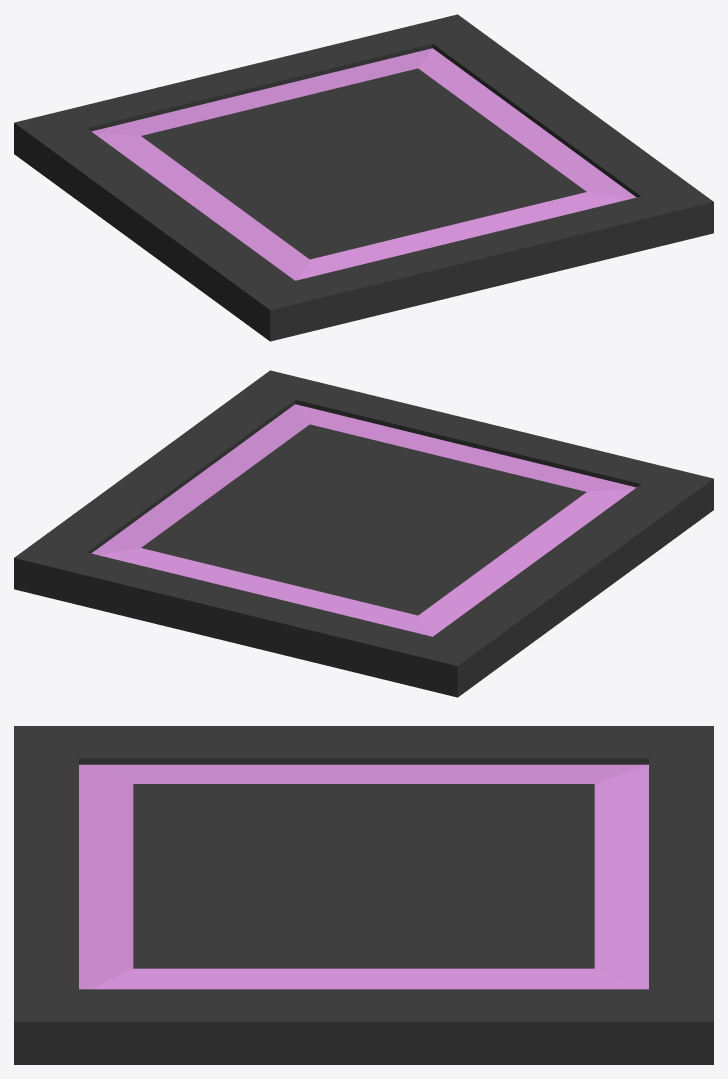
File: Wall.fbx
3 renders of one model, top to bottom at view 1: azimuth 30°, elevation 25°; view 2: azimuth 150°, elevation 25°; view 3: azimuth 270°, elevation 25°, orthographic. The views are drawn at different scales.
Visible parts, largest first — view 1: Cube.008; view 2: Cube.008; view 3: Cube.008.
Part boxes in pixels (<box>): Cube.008: <box>14,14,713,341</box>; Cube.008: <box>14,370,713,697</box>; Cube.008: <box>14,726,713,1064</box>.
Size of the model in its own units: 767 by 51.92 by 767.
